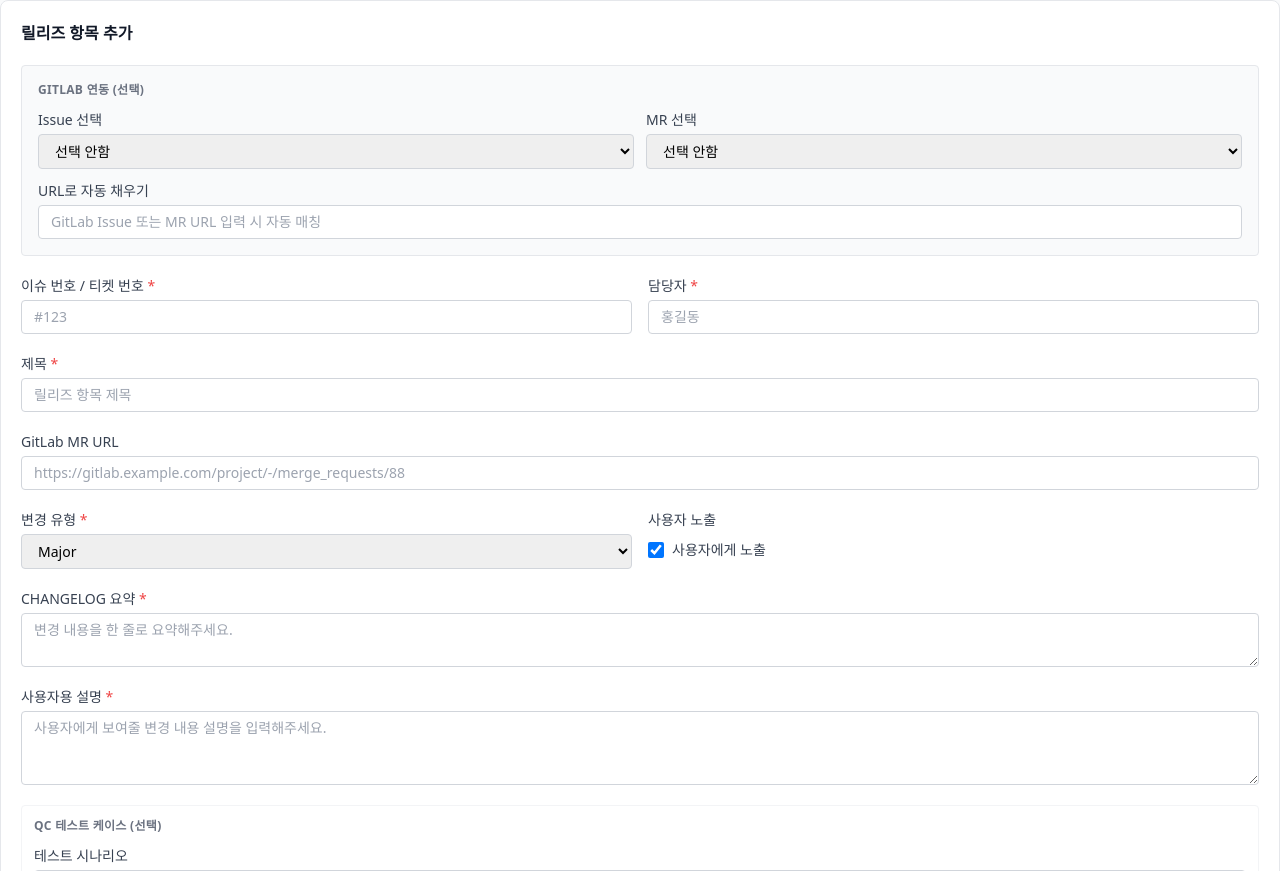
Test case: ReleaseItemForm › GitLab MR 선택 시 제목·티켓 번호·담당자가 자동 채워진다
Select "!88 feat: 로그인 실패 안내 문구 개선 (closes #123)" in the dropdown labelled "MR 선택" at (944, 152), box [646, 134, 1242, 169]
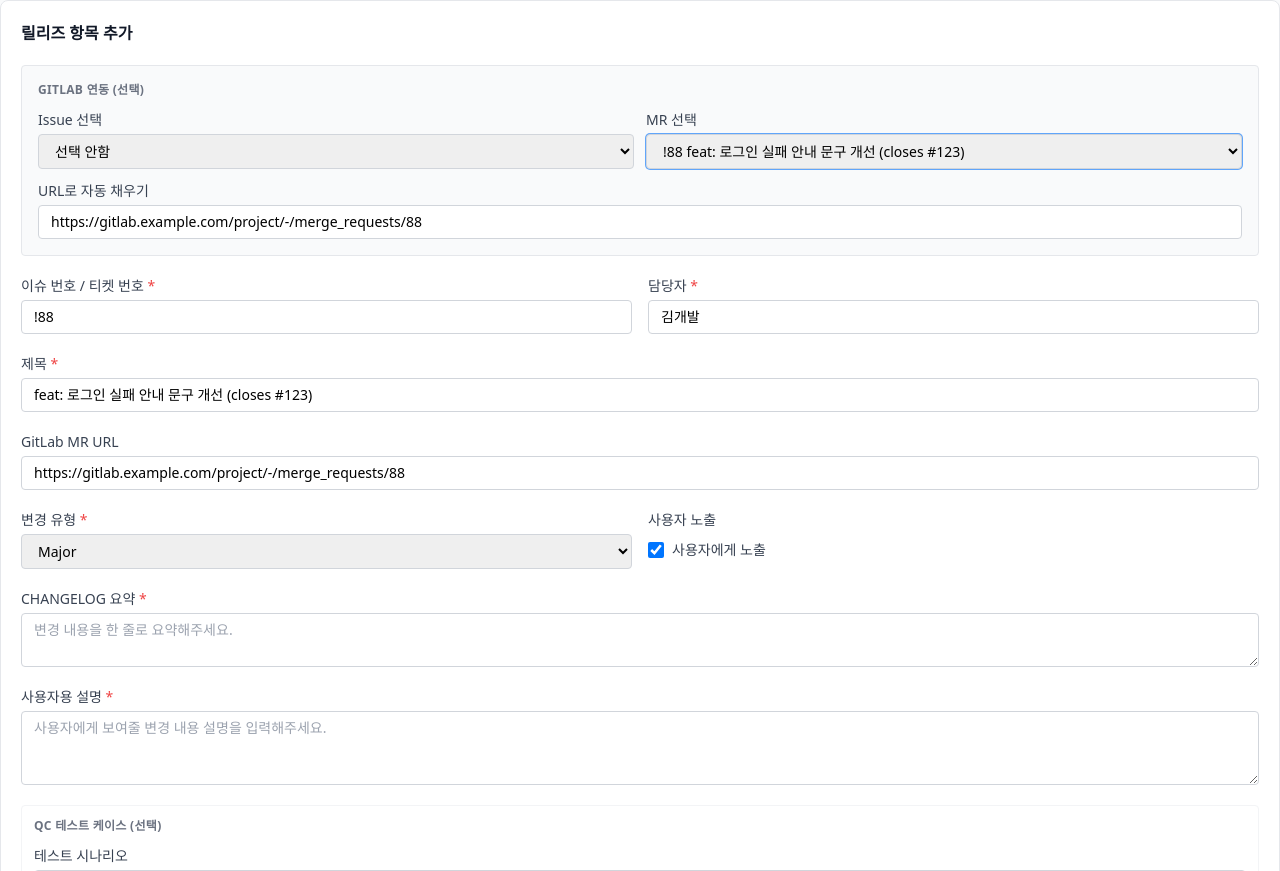
Now the field labelled "이슈 번호 / 티켓 번호 *" holds "!88", box [21, 300, 632, 334]
Now the field labelled "제목 *" holds "feat: 로그인 실패 안내 문구 개선 (closes #123)", box [21, 378, 1259, 412]
Now the field labelled "담당자 *" holds "김개발", box [648, 300, 1259, 334]
